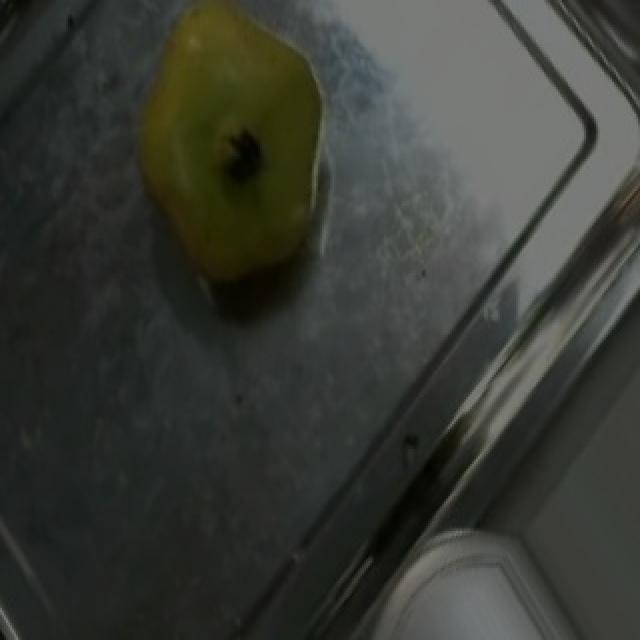fruit: (106, 0, 356, 181)
